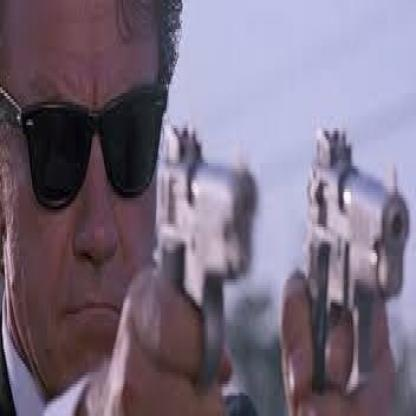Pistol: (279, 128, 409, 410), (142, 111, 258, 405)
